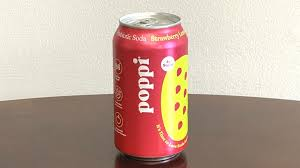Soda Can: (106, 8, 192, 167)
